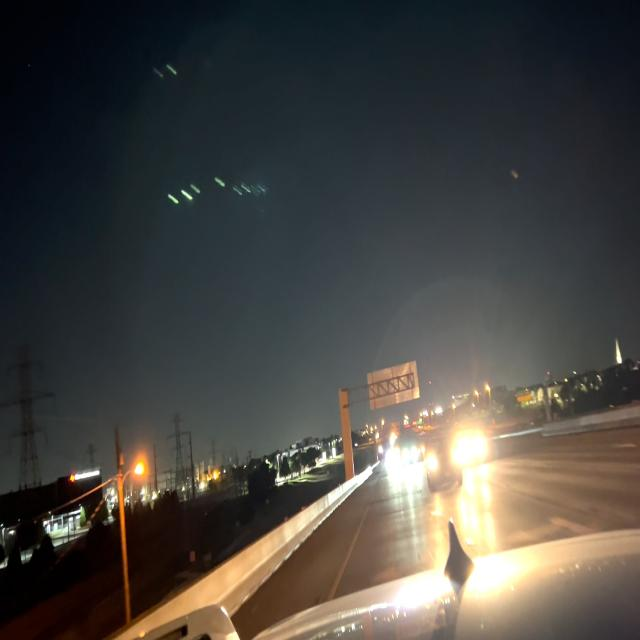back-of-sign: (364, 358, 421, 414)
